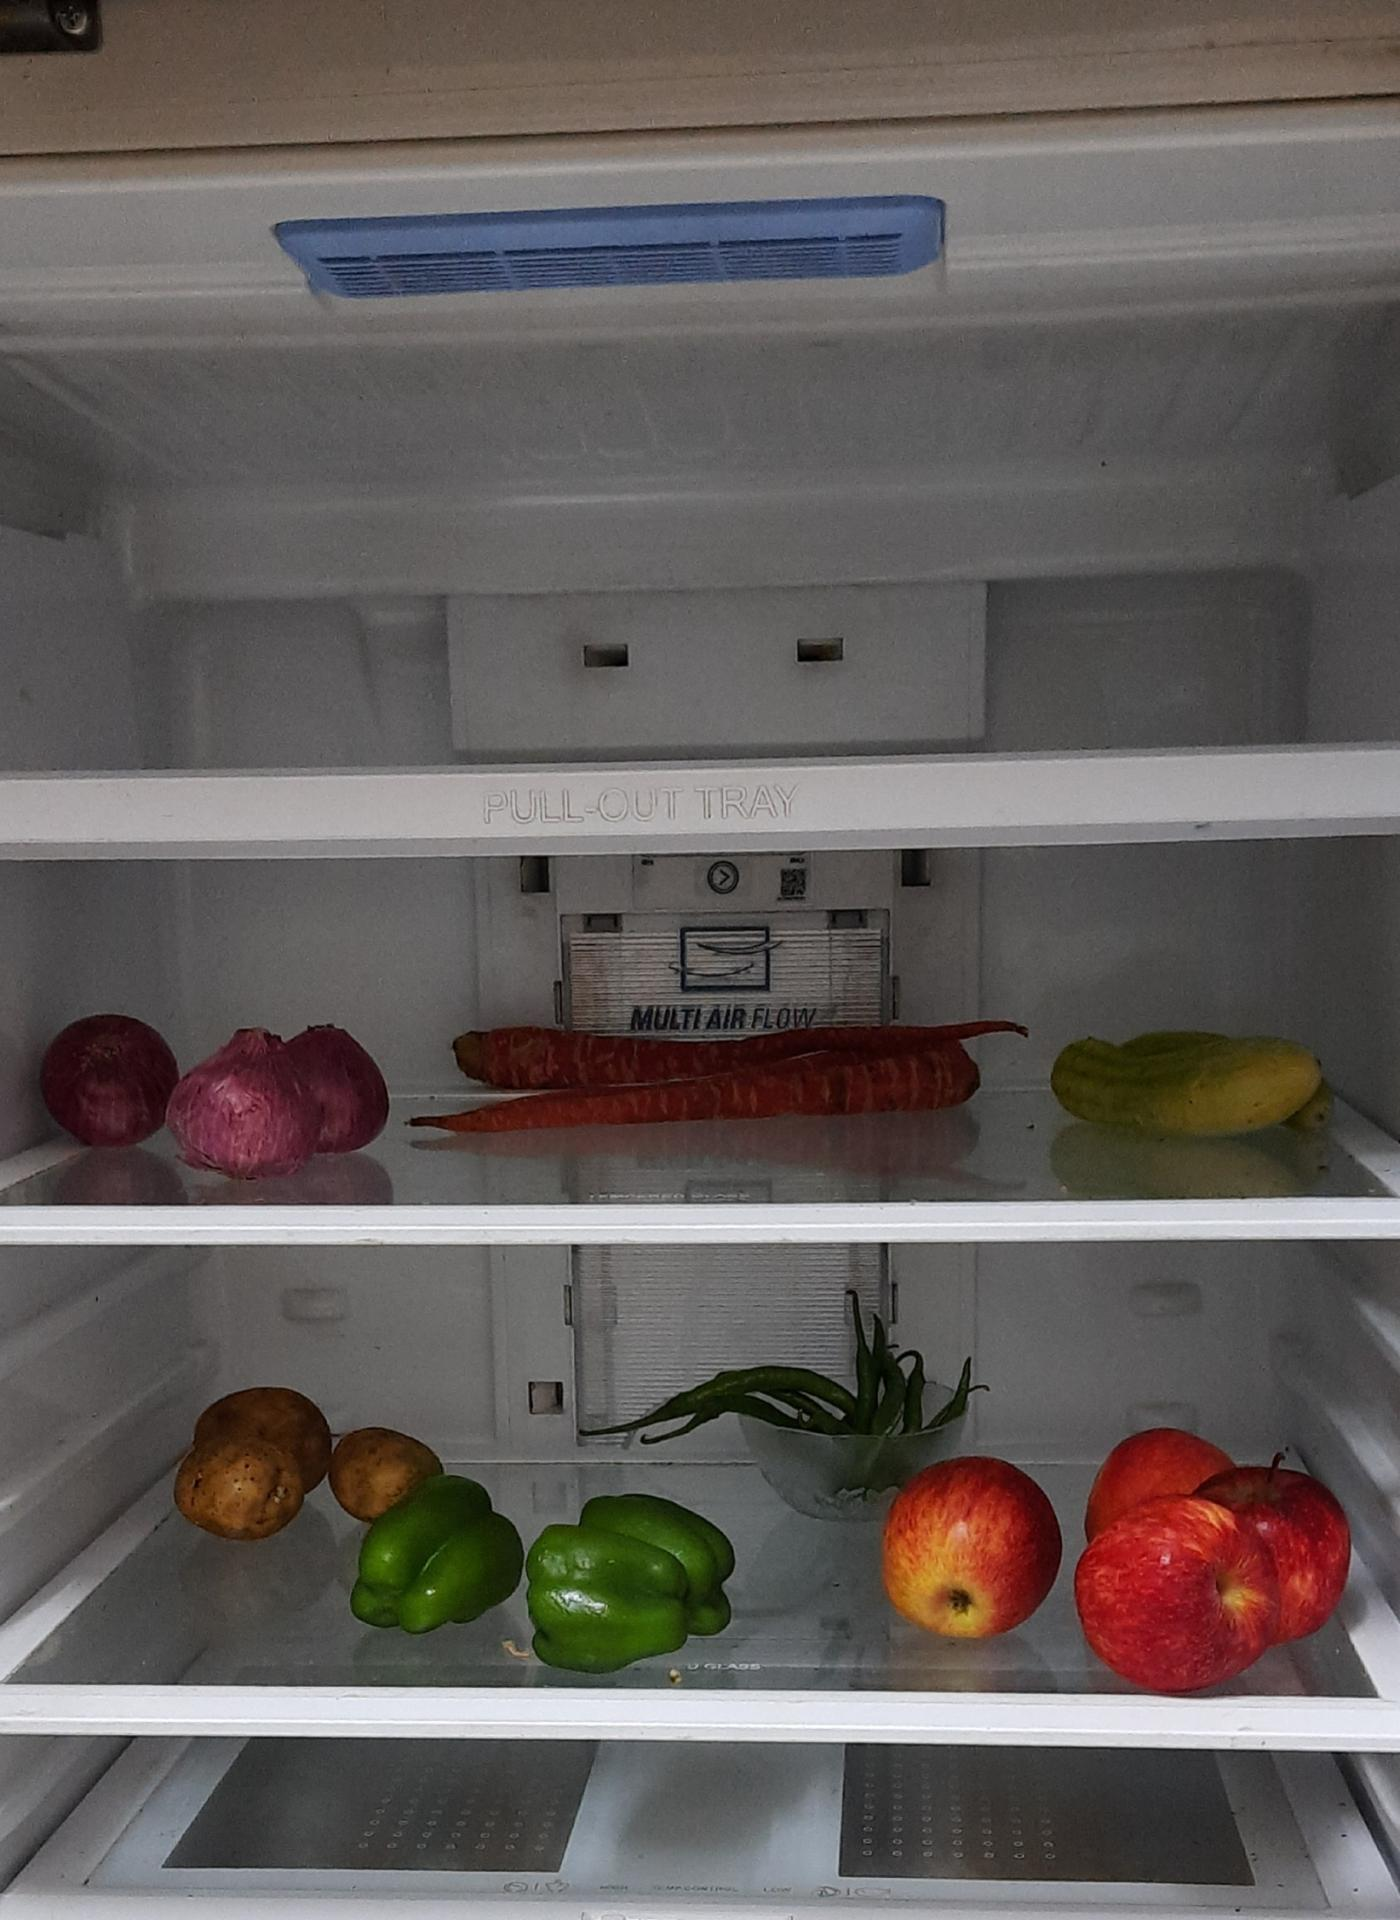apple: (1076, 1413, 1360, 1699), (877, 1446, 1076, 1650)
capsicum: (531, 1498, 738, 1679), (356, 1473, 532, 1628)
carrots: (437, 1009, 1005, 1133)
chillies: (587, 1291, 986, 1465)
cucumber: (1045, 1029, 1337, 1137)
onion: (173, 1008, 395, 1191), (43, 1011, 182, 1145)
potato: (173, 1386, 443, 1537)
